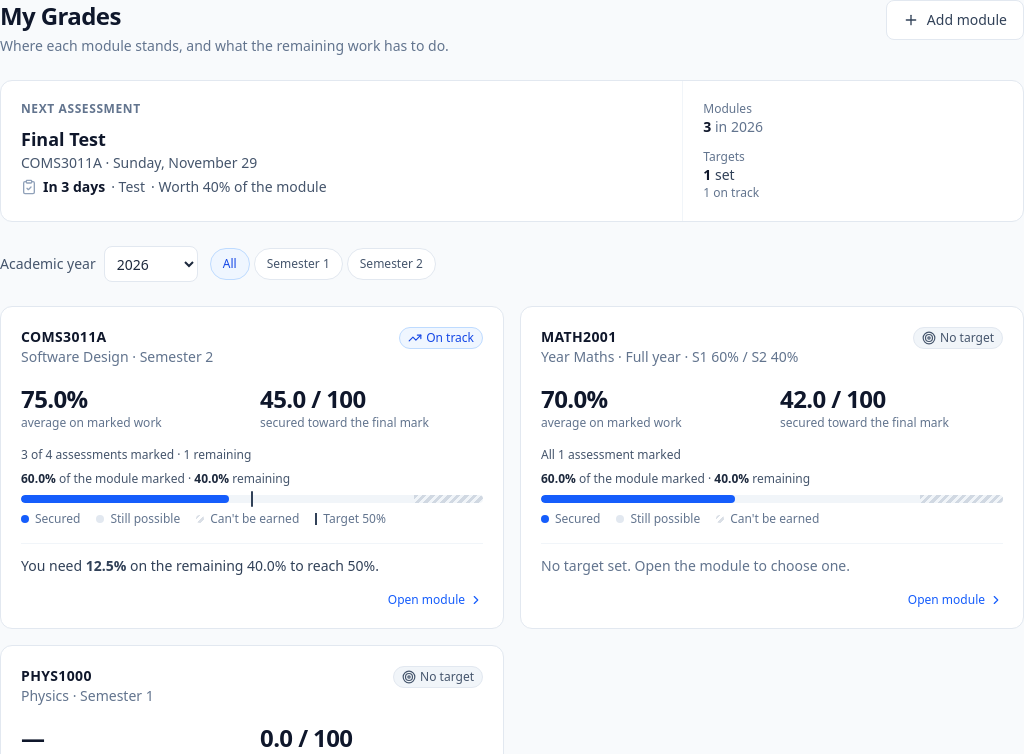
Test: GradesPage › shows every year's modules under All years
This screenshot has width=1024, height=754.
Expected: the text "COMS3011A" is shown, [21,327,106,346]
Select "All years" in the dropdown labelled "Academic year" at {"x": 151, "y": 264}, box [104,246,198,282]
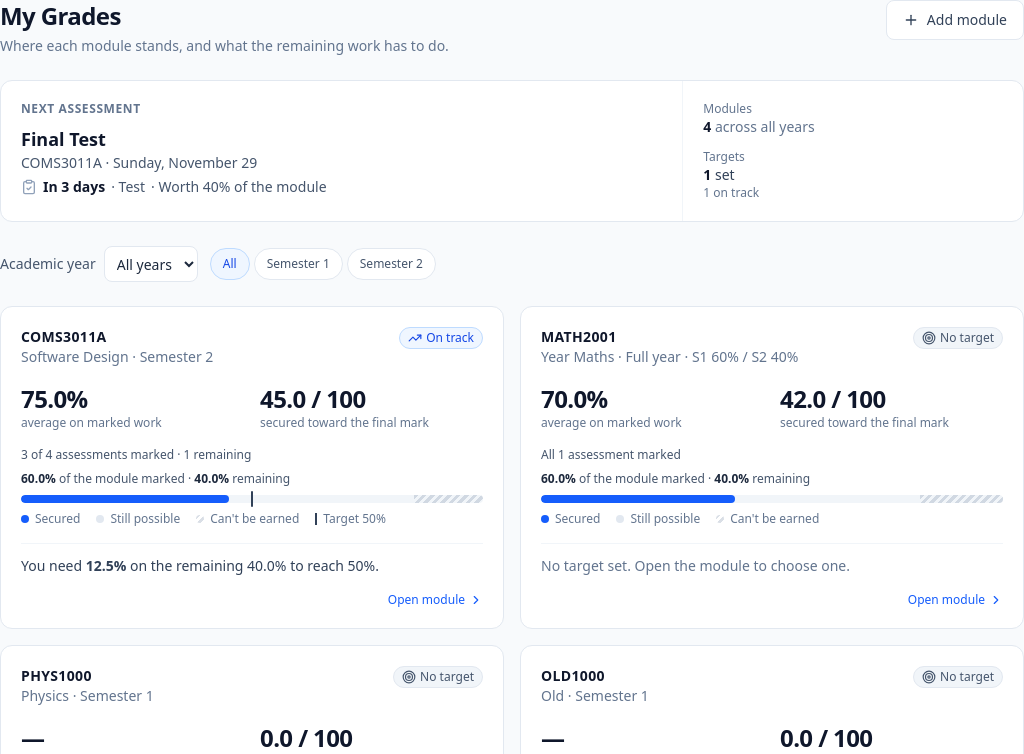
Expected: the text "COMS3011A" is shown, [21,327,106,346]
Expected: the text "OLD1000" is shown, [541,666,605,685]
